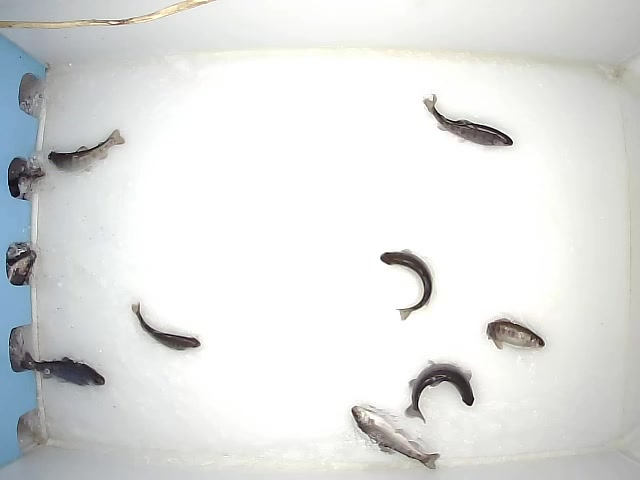fish: (349, 403, 441, 470), (422, 92, 515, 149), (403, 358, 474, 424), (45, 126, 125, 178), (378, 248, 433, 322), (129, 302, 201, 352), (19, 351, 108, 387), (485, 317, 546, 351)
